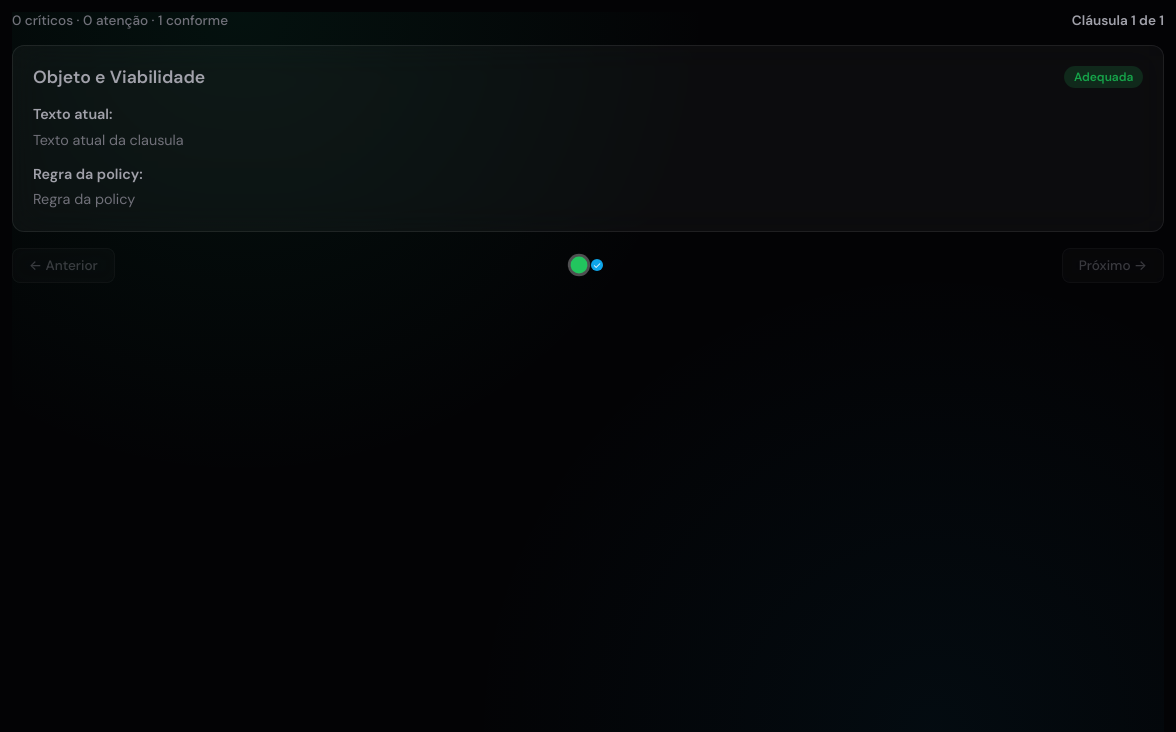
Test: ClauseStepper › shows verdict after last clause
The width and height of the screenshot is (1176, 732).
Click the button named "Veredito final" at (597, 265), box top-left (591, 259), bottom-right (603, 271)
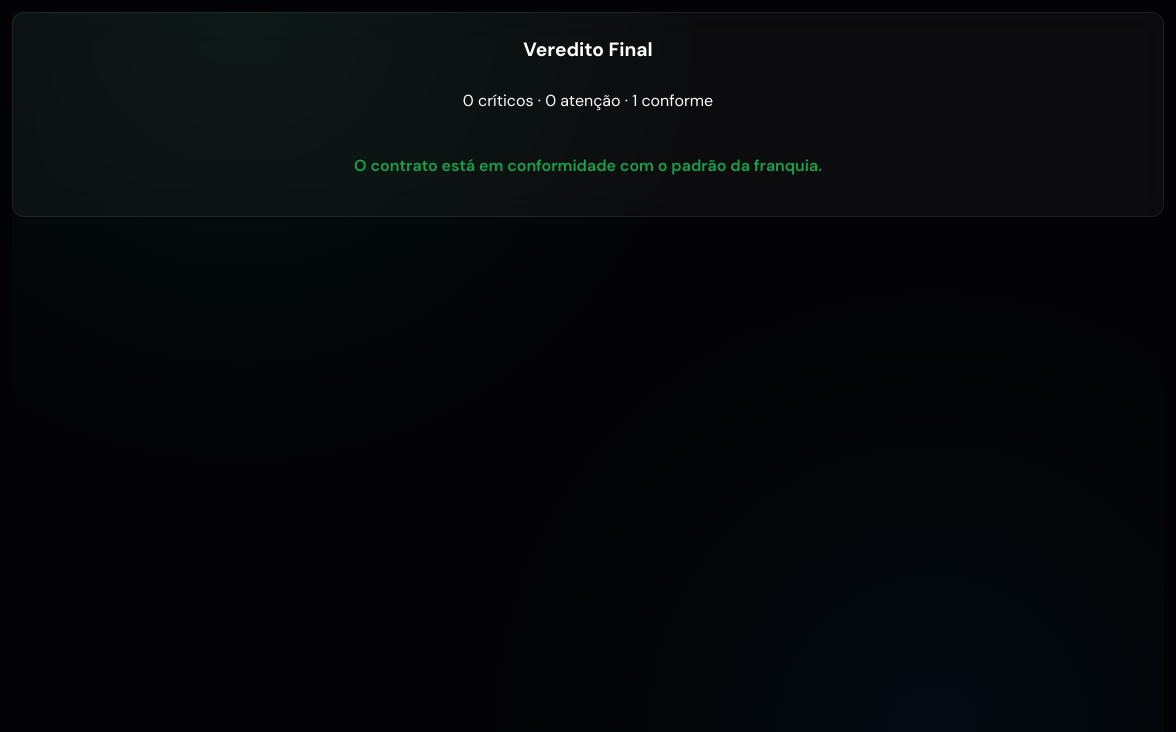
expect the heading "Veredito Final" is shown: met, box top-left (523, 37), bottom-right (653, 62)
